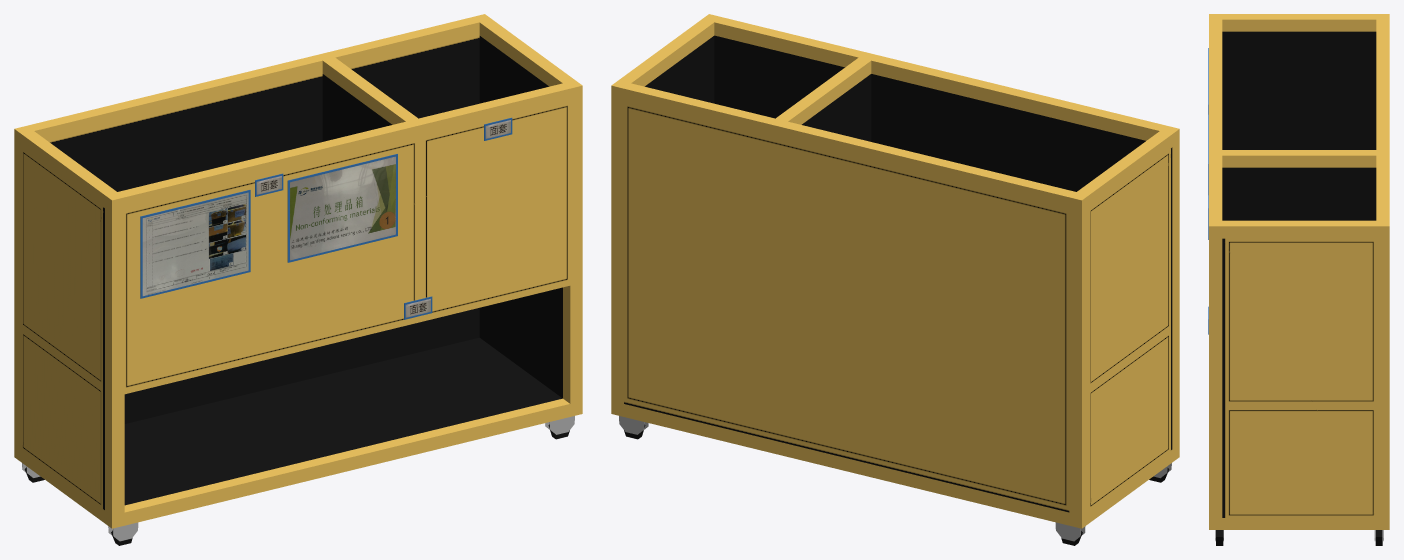
Rendered from miantao.FBX.
The picture shows the model from 3 angles, left to right: view 1: azimuth 30°, elevation 25°; view 2: azimuth 150°, elevation 25°; view 3: azimuth 270°, elevation 25°; orthographic projection. The views are drawn at different scales.
Parts seen in each view (by area): view 1: YF_Model_miantao; view 2: YF_Model_miantao; view 3: YF_Model_miantao.
Boxes of the visible parts, left/top/right/bottom form: YF_Model_miantao: left=14, top=14, right=582, bottom=545; YF_Model_miantao: left=611, top=14, right=1179, bottom=545; YF_Model_miantao: left=1208, top=14, right=1389, bottom=545.
Size of the model in its own units: 150 by 107 by 54.2.
1 material, 1 textured.
